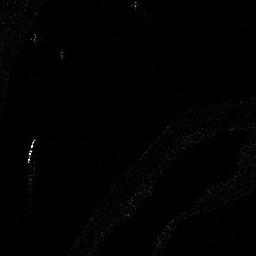ship: (27, 137, 35, 163)
